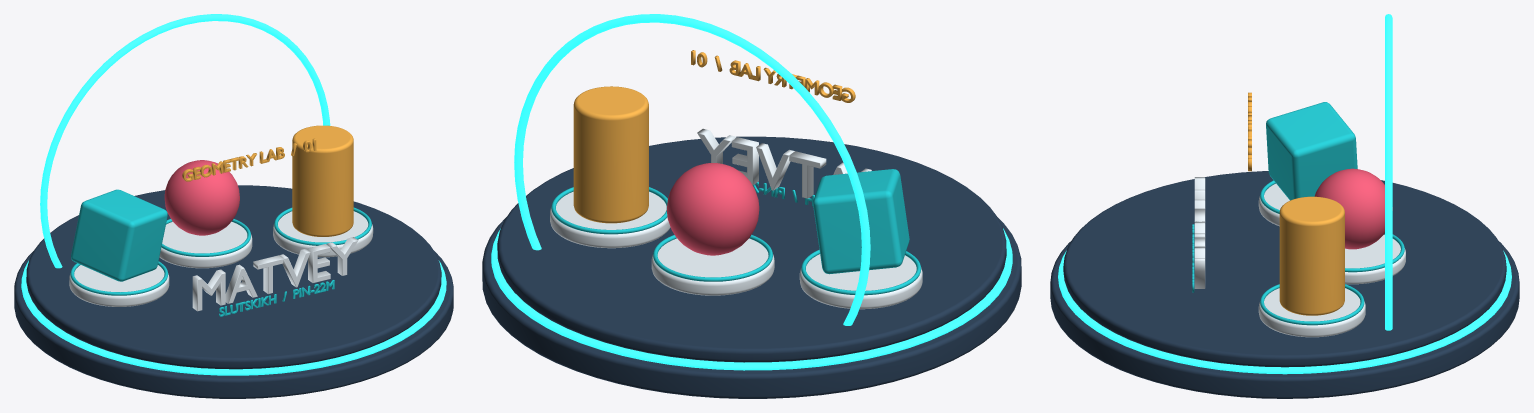
3 renders of one model, left to right at view 1: azimuth 30°, elevation 25°; view 2: azimuth 150°, elevation 25°; view 3: azimuth 270°, elevation 25°, orthographic. The views are drawn at different scales.
Parts seen in each view (by area): view 1: 03 / upper platform, 01 / circular foundation, 04 / tilted turquoise cube, 06 / golden cylinder, 05 / coral sphere, 07 / orbital arch, 08 / author name, 02 / luminous rim, Display plinth / SPHERE, Display plinth / CUBE, Display plinth / CYLINDER, 10 / exhibit caption (+4 smaller); view 2: 03 / upper platform, 01 / circular foundation, 06 / golden cylinder, 04 / tilted turquoise cube, 07 / orbital arch, 05 / coral sphere, 02 / luminous rim, Display plinth / SPHERE, Display plinth / CUBE, Display plinth / CYLINDER, 08 / author name, 10 / exhibit caption (+3 smaller); view 3: 03 / upper platform, 01 / circular foundation, 06 / golden cylinder, 04 / tilted turquoise cube, 02 / luminous rim, 05 / coral sphere, Display plinth / CYLINDER, 07 / orbital arch, Display plinth / SPHERE, 08 / author name, Accent / CYLINDER, Display plinth / CUBE.
Boxes of the visible parts, box(x1,y1,x2,y2) form: 03 / upper platform: box(26, 185, 441, 369); 01 / circular foundation: box(14, 251, 453, 398); 04 / tilted turquoise cube: box(71, 189, 167, 281); 06 / golden cylinder: box(292, 125, 353, 236); 05 / coral sphere: box(164, 160, 239, 235); 07 / orbital arch: box(40, 14, 330, 268); 08 / author name: box(192, 237, 358, 311); 02 / luminous rim: box(21, 260, 446, 375); Display plinth / SPHERE: box(159, 221, 252, 268); Display plinth / CUBE: box(69, 265, 169, 306); Display plinth / CYLINDER: box(273, 211, 373, 257); 10 / exhibit caption: box(182, 138, 316, 181); 03 / upper platform: box(497, 136, 1006, 362); 01 / circular foundation: box(482, 217, 1021, 398); 06 / golden cylinder: box(573, 86, 648, 223); 04 / tilted turquoise cube: box(813, 169, 909, 274); 07 / orbital arch: box(514, 14, 870, 325); 05 / coral sphere: box(666, 163, 759, 255); 02 / luminous rim: box(491, 228, 1012, 370); Display plinth / SPHERE: box(651, 238, 774, 295); Display plinth / CUBE: box(799, 254, 922, 309); Display plinth / CYLINDER: box(550, 191, 670, 248); 08 / author name: box(697, 128, 871, 198); 10 / exhibit caption: box(691, 50, 855, 102); 03 / upper platform: box(1063, 171, 1506, 367); 01 / circular foundation: box(1050, 241, 1519, 398); 06 / golden cylinder: box(1279, 196, 1344, 315); 04 / tilted turquoise cube: box(1266, 102, 1357, 200); 02 / luminous rim: box(1058, 250, 1511, 374); 05 / coral sphere: box(1314, 168, 1392, 249); Display plinth / CYLINDER: box(1258, 288, 1365, 337); 07 / orbital arch: box(1385, 14, 1392, 330); Display plinth / SPHERE: box(1345, 234, 1405, 284); 08 / author name: box(1194, 177, 1205, 288); Accent / CYLINDER: box(1260, 284, 1364, 325); Display plinth / CUBE: box(1258, 183, 1289, 226).
Bounding box in the file's own units: 4.3 × 3.27 × 4.3.
